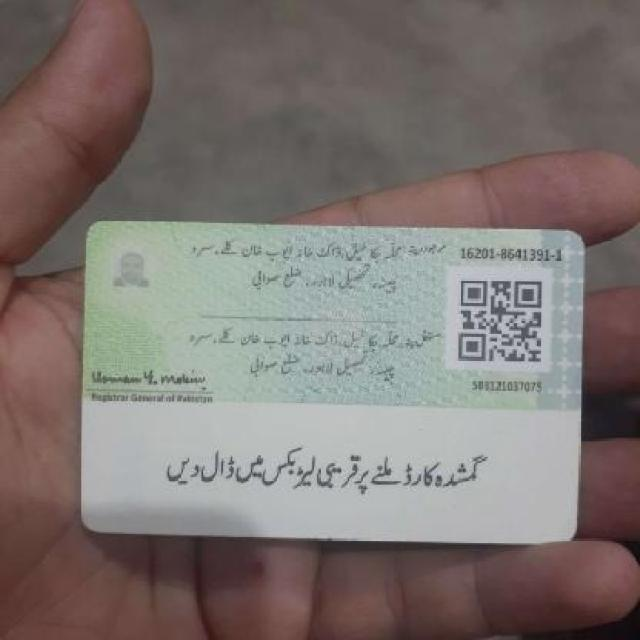Back: (78, 210, 588, 548)
